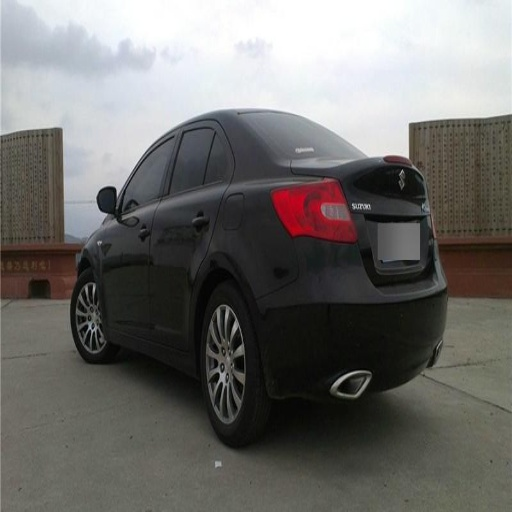back_bumper: (253, 241, 447, 400)
back_glass: (239, 112, 359, 171)
back_left_door: (152, 118, 235, 347)
